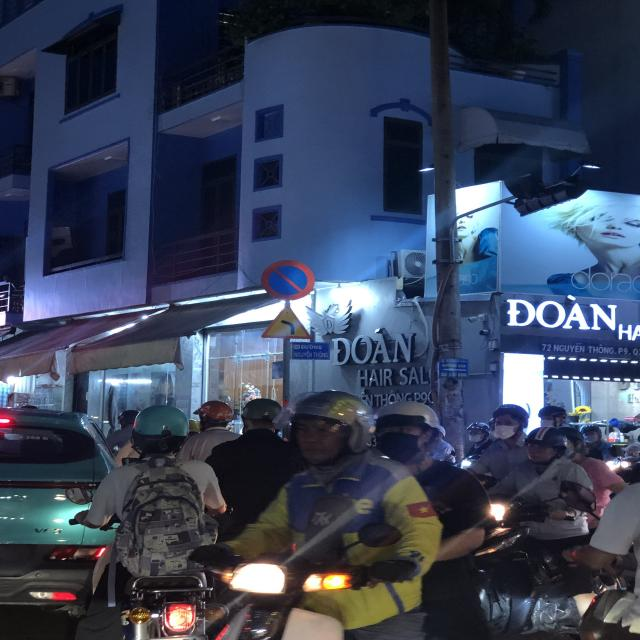Bien bao cam do xe: (260, 256, 319, 303)
Bien bao cho ngoat nguy hiem: (258, 302, 316, 343)
